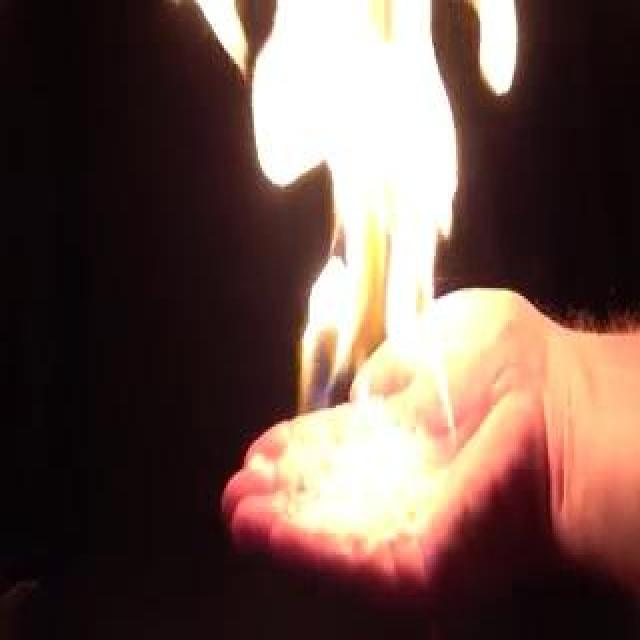Fire: (254, 3, 478, 528)
